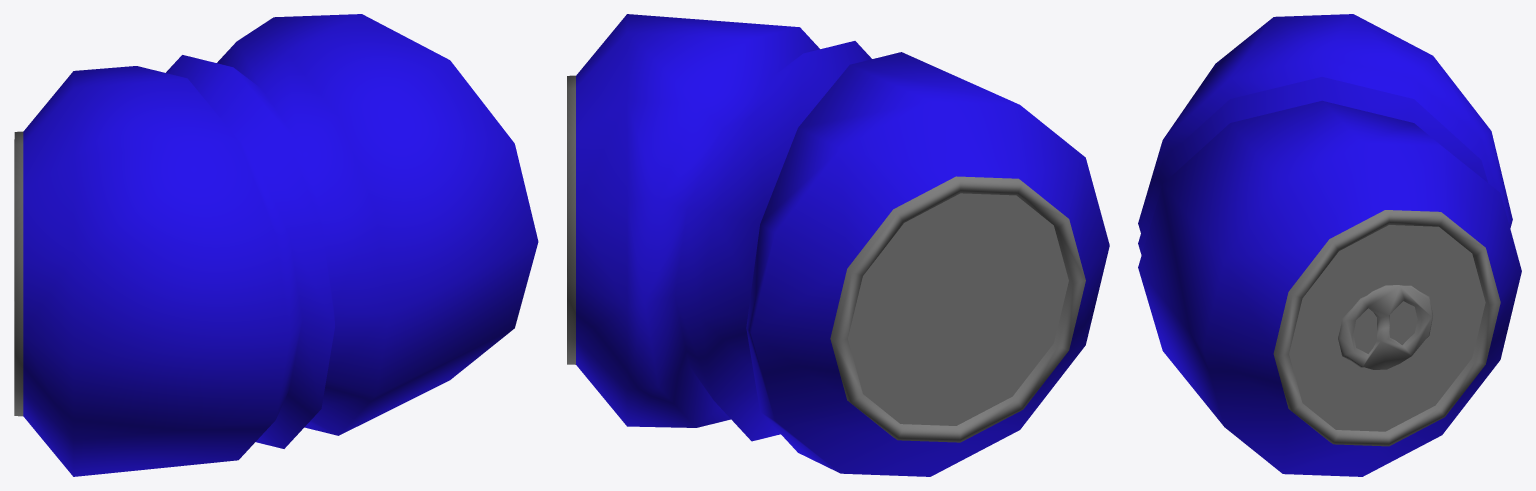
Rendered from trash_probs2.fbx.
3 renders of one model, left to right at view 1: azimuth 30°, elevation 25°; view 2: azimuth 150°, elevation 25°; view 3: azimuth 270°, elevation 25°, orthographic. The views are drawn at different scales.
Visible parts, largest first — view 1: Cylinder; view 2: Cylinder; view 3: Cylinder.
Part boxes in pixels (x1,y1,x2,y2): Cylinder: [14, 14, 538, 476]; Cylinder: [567, 14, 1109, 476]; Cylinder: [1138, 14, 1521, 476].
Bounding box in the file's own units: 0.0947 × 0.0661 × 0.069.
